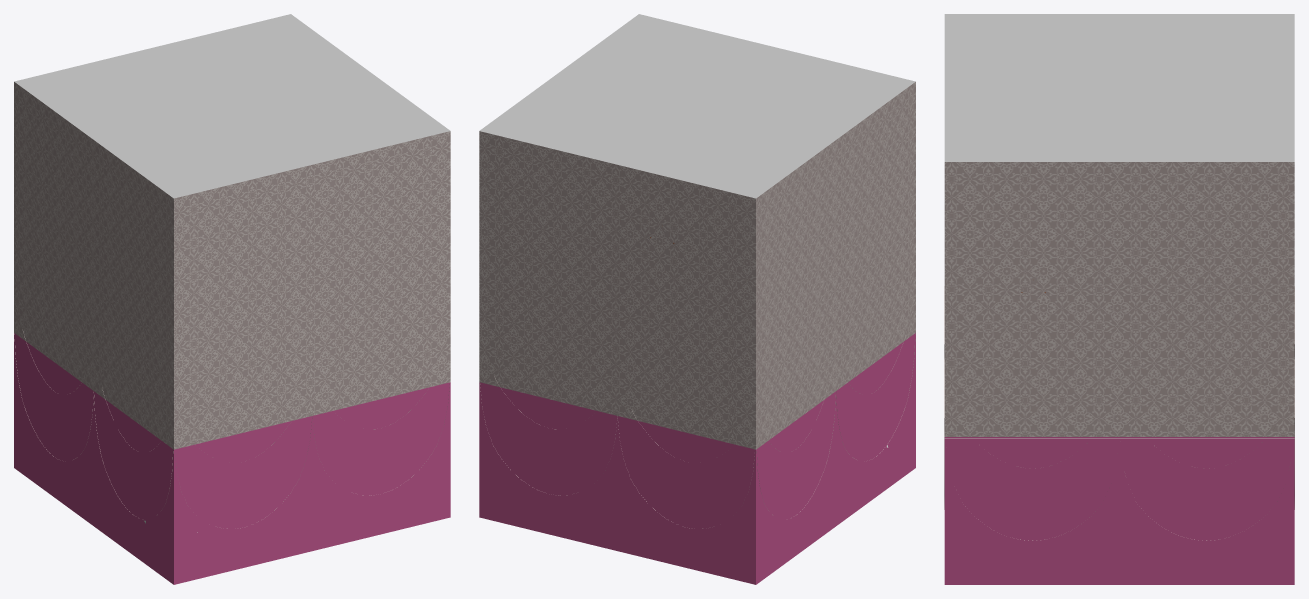
File: room.fbx
3 views of the same model, side by side, from view 1: azimuth 30°, elevation 25°; view 2: azimuth 150°, elevation 25°; view 3: azimuth 270°, elevation 25° (orthographic). The views are drawn at different scales.
Visible parts, largest first — view 1: wall_geo; view 2: wall_geo; view 3: wall_geo, drapery_geo.
Part boxes in pixels (bbox=[...]): wall_geo: bbox=[14, 14, 450, 584]; wall_geo: bbox=[479, 14, 915, 584]; wall_geo: bbox=[944, 14, 1294, 584]; drapery_geo: bbox=[944, 286, 1294, 540].
Size of the model in its own units: 301 by 401 by 301.
